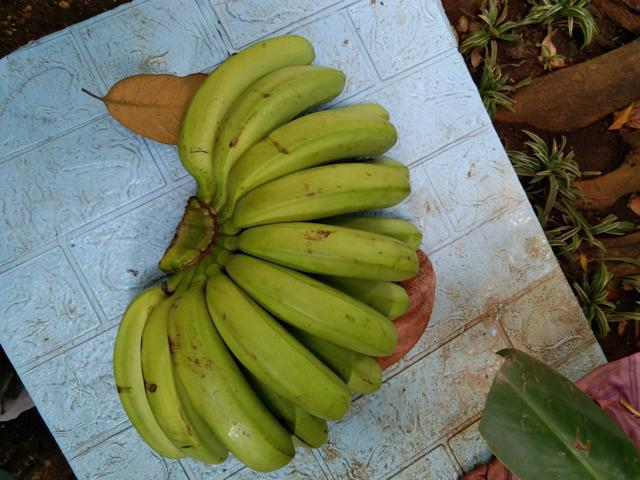freshunripe: (200, 271, 354, 424), (174, 28, 320, 186)
unripe: (161, 291, 297, 471), (133, 298, 226, 463), (215, 59, 344, 175), (239, 213, 428, 287), (230, 154, 423, 222), (238, 104, 396, 187)
